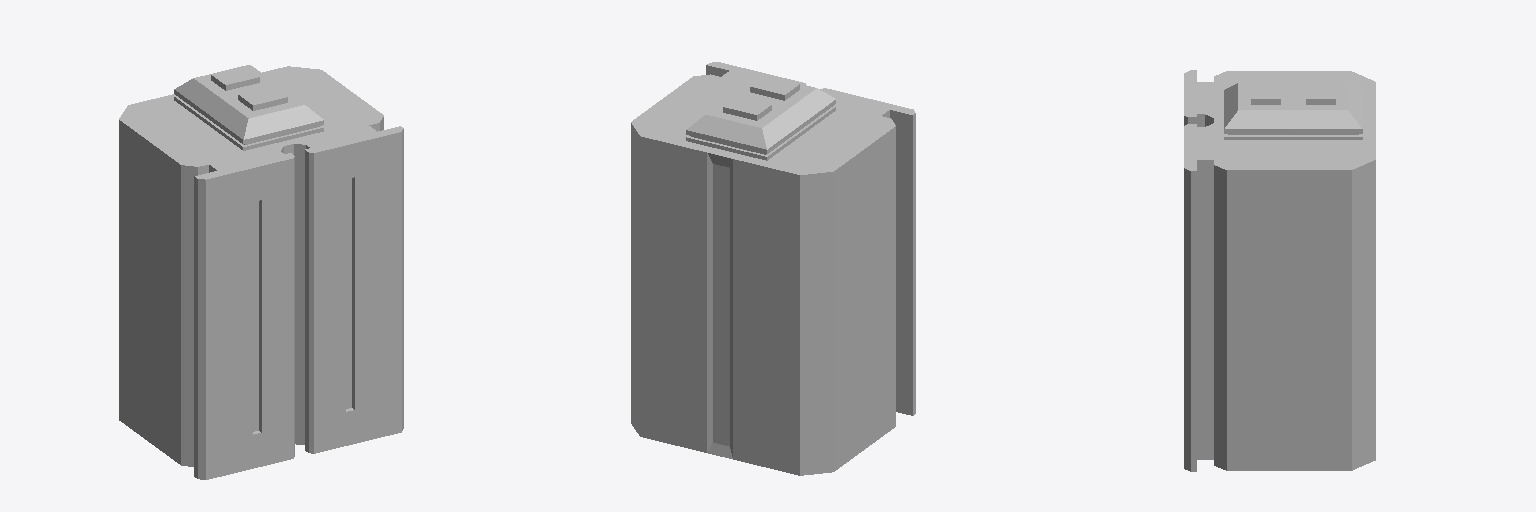
Rendered from server_2.obj.
The picture shows the model from 3 angles: view 1: azimuth 30°, elevation 25°; view 2: azimuth 150°, elevation 25°; view 3: azimuth 270°, elevation 25°; orthographic projection.
Visible parts, largest first — view 1: server_2; view 2: server_2; view 3: server_2.
Boxes of the visible parts, x1,y1,x2,y2 form: server_2: [119, 65, 403, 479]; server_2: [631, 62, 915, 475]; server_2: [1184, 70, 1375, 471].
Bounding box in the file's own units: 1.6 × 2.45 × 1.28.